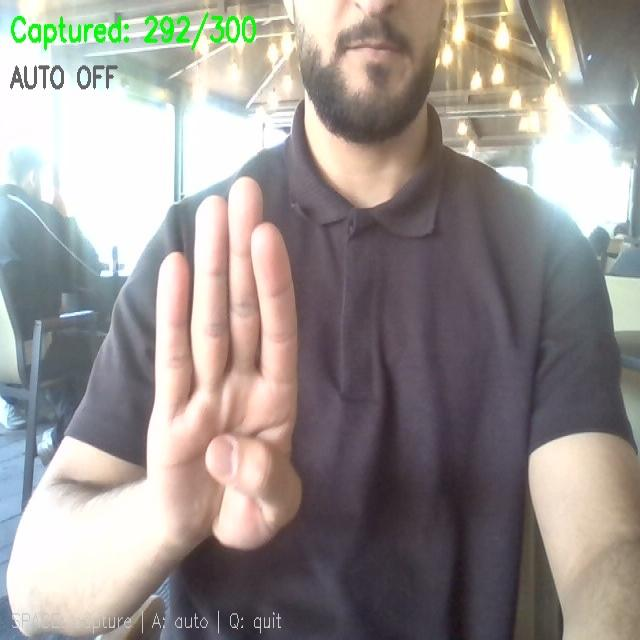Hand: (147, 179, 300, 549)
